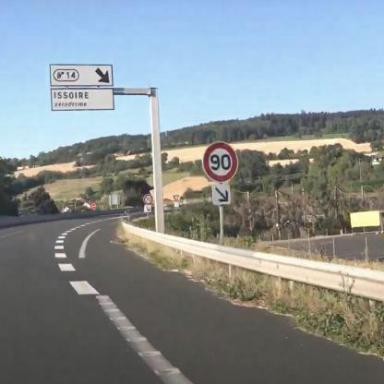Speed_limit_90: (205, 142, 239, 183)
